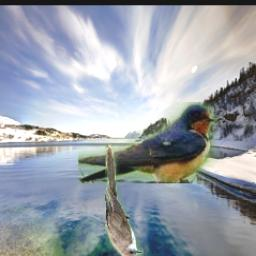Cuckoo: (105, 144, 144, 256)
Swallow: (78, 103, 217, 184)
